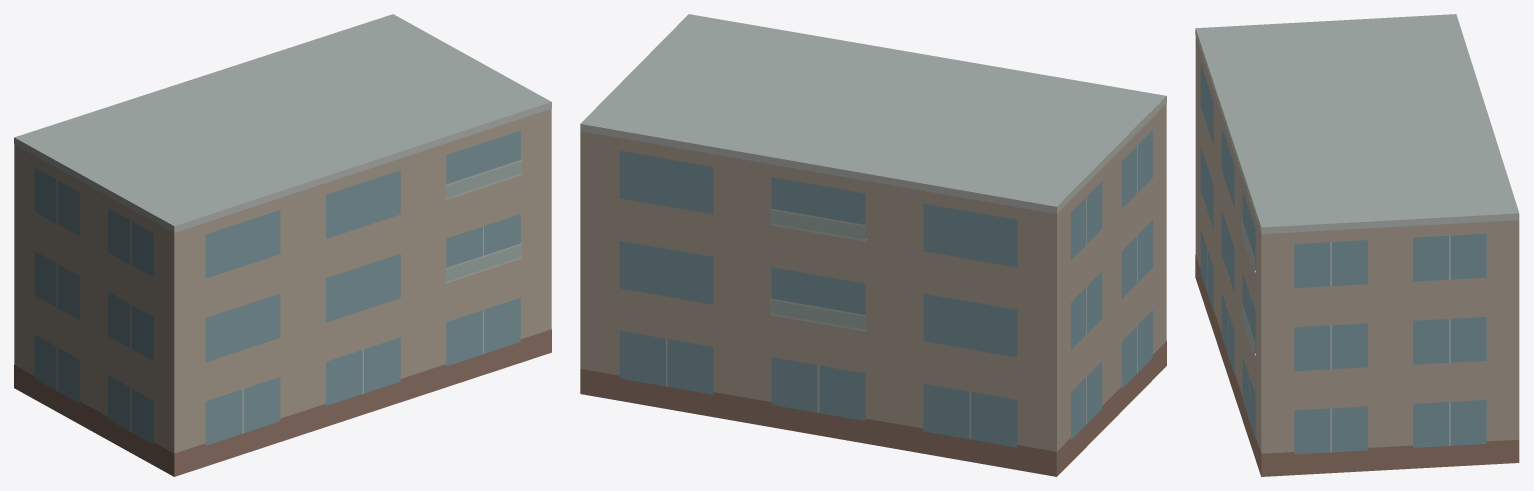
File: survey-upis-32471119.glb
The picture shows the model from 3 angles, left to right: view 1: azimuth 30°, elevation 25°; view 2: azimuth 150°, elevation 25°; view 3: azimuth 270°, elevation 25°; orthographic projection. The views are drawn at different scales.
Parts seen in each view (by area): view 1: survey-upis-32471119.tmp; view 2: survey-upis-32471119.tmp; view 3: survey-upis-32471119.tmp.
Part boxes in pixels (x1,y1,x2,y2): survey-upis-32471119.tmp: (14, 14, 551, 476); survey-upis-32471119.tmp: (580, 14, 1166, 476); survey-upis-32471119.tmp: (1195, 14, 1519, 476).
Bounding box in the file's own units: 16.81 × 9.15 × 10.78.
